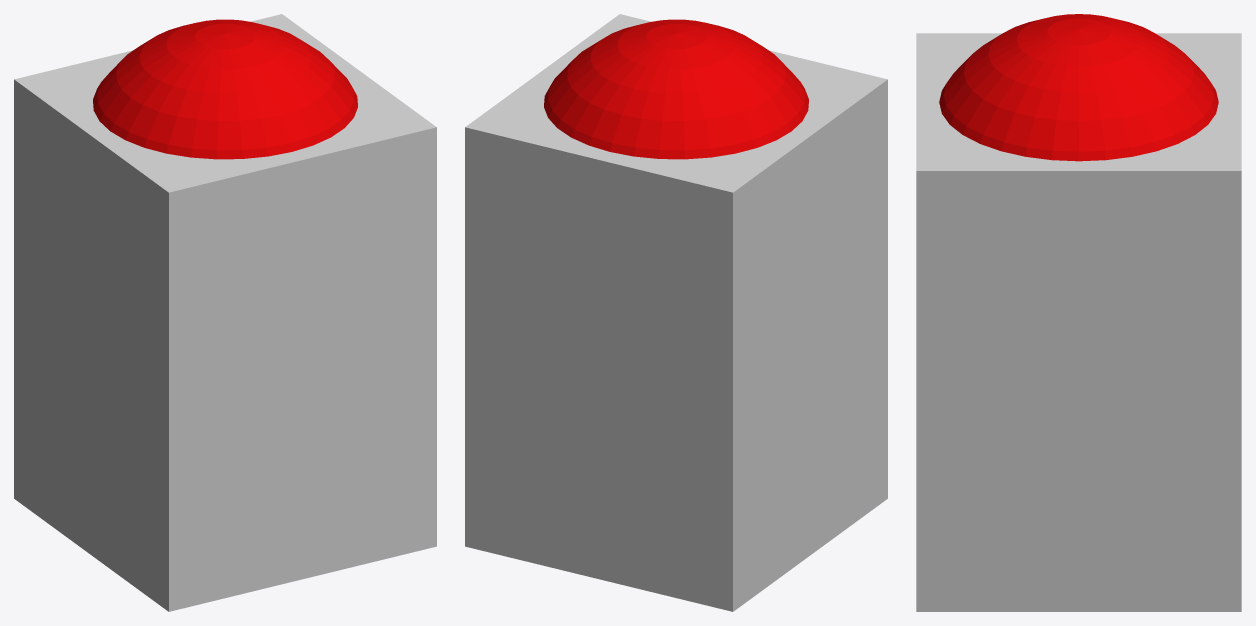
File: PushButton.fbx
The picture shows the model from 3 angles, left to right: view 1: azimuth 30°, elevation 25°; view 2: azimuth 150°, elevation 25°; view 3: azimuth 270°, elevation 25°; orthographic projection. The views are drawn at different scales.
Parts seen in each view (by area): view 1: Cube, Sphere; view 2: Cube, Sphere; view 3: Cube, Sphere.
Part boxes in pixels (x1=…): Cube: x1=14, y1=14, x2=436, y2=611; Sphere: x1=93, y1=19, x2=357, y2=159; Cube: x1=465, y1=14, x2=887, y2=611; Sphere: x1=544, y1=19, x2=808, y2=159; Cube: x1=916, y1=33, x2=1241, y2=611; Sphere: x1=939, y1=14, x2=1218, y2=161.
Bounding box in the file's own units: 71.92 × 125 × 71.92.
